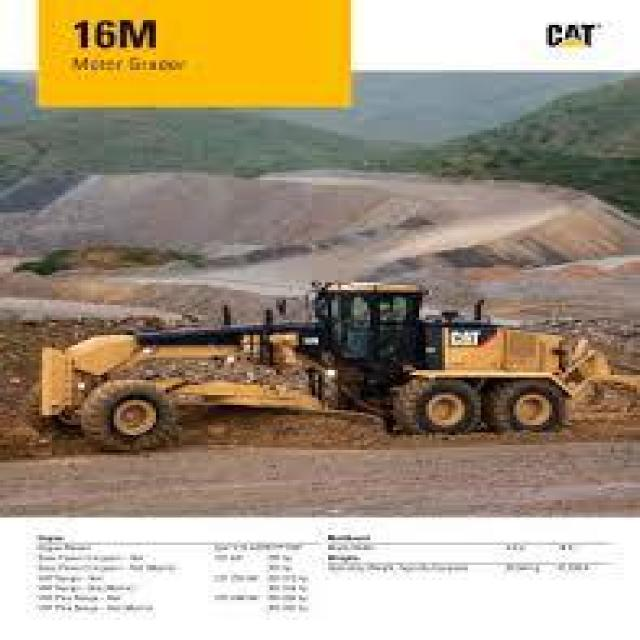Grader: (26, 262, 633, 468)
